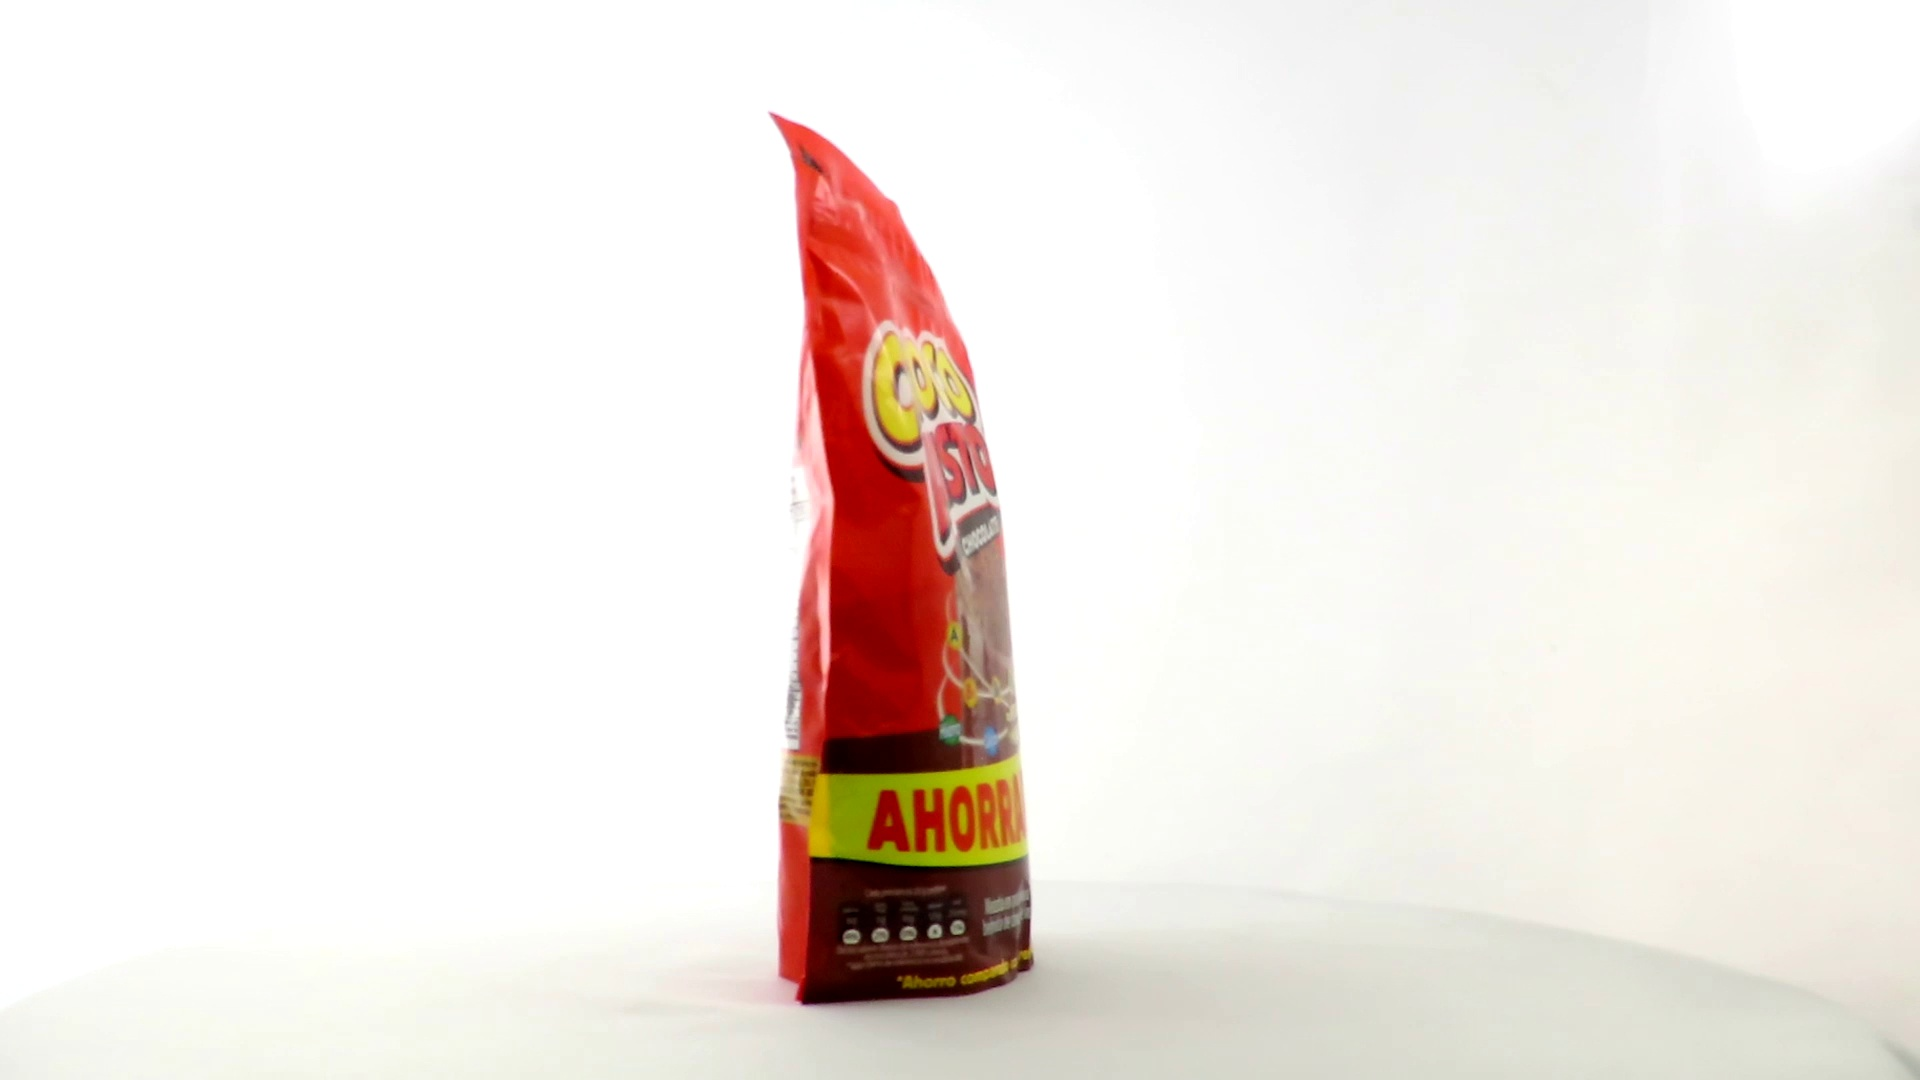COL0170103DYP36000: (764, 107, 1040, 1011)
